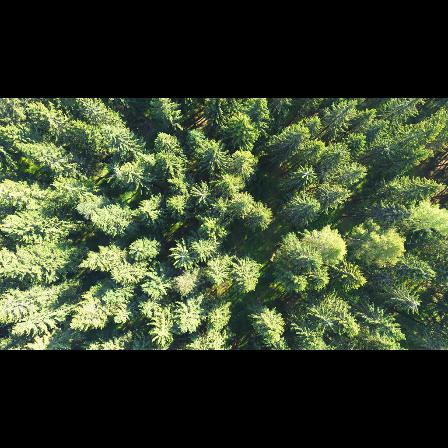Sick: (191, 178, 216, 206), (318, 311, 338, 333), (297, 164, 318, 182)
